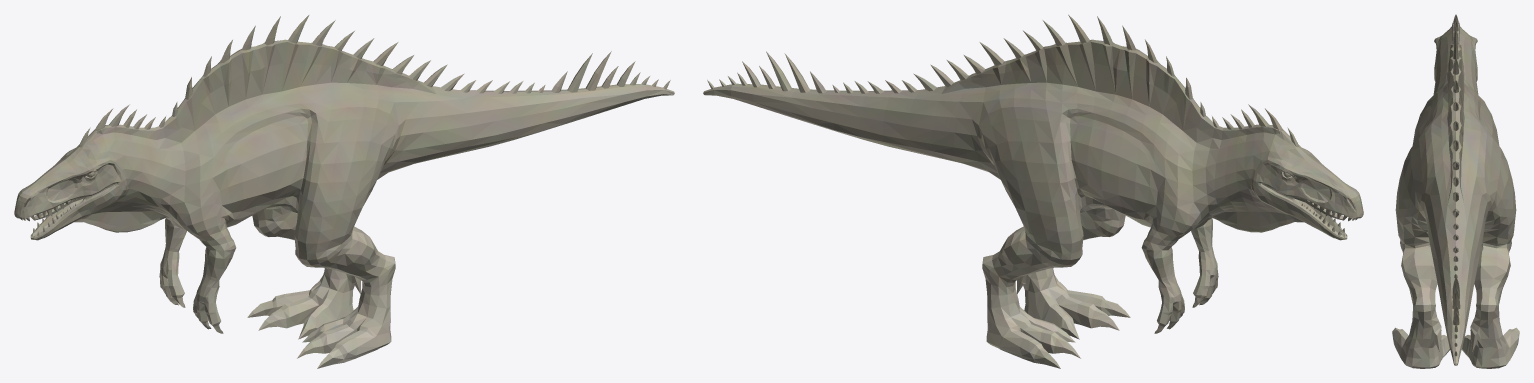
The model's file is ostafrikasaurus.glb.
3 renders of one model, left to right at view 1: azimuth 30°, elevation 25°; view 2: azimuth 150°, elevation 25°; view 3: azimuth 270°, elevation 25°, orthographic. The views are drawn at different scales.
Parts seen in each view (by area): view 1: world; view 2: world; view 3: world.
Boxes of the visible parts, x1=… form: world: x1=14, y1=15, x2=674, y2=368; world: x1=703, y1=14, x2=1363, y2=368; world: x1=1392, y1=14, x2=1519, y2=368.
Bounding box in the file's own units: 15.39 × 7.36 × 2.91.
